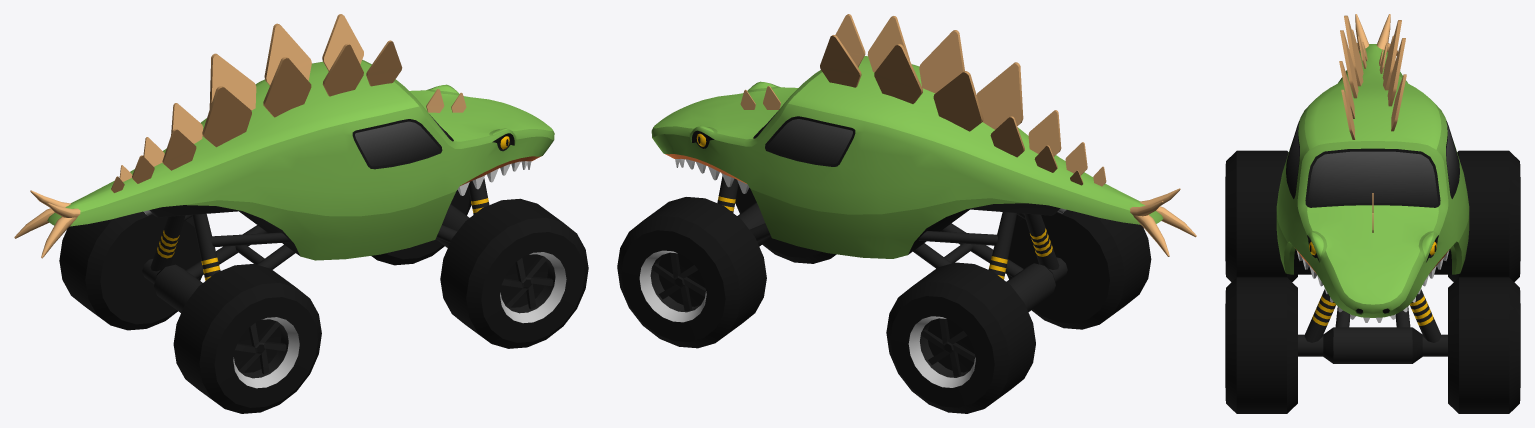
File: Car_007.glb
3 views of the same model, side by side, from view 1: azimuth 30°, elevation 25°; view 2: azimuth 150°, elevation 25°; view 3: azimuth 270°, elevation 25° (orthographic). The views are drawn at different scales.
Visible parts, largest first — view 1: Car_007, wheel_3_Car_007_Wheel_2R, wheel_1_Car_007_Wheel_1R, wheel_2_Car_007_Wheel_2L, wheel_0_Car_007_Wheel_1L; view 2: Car_007, wheel_2_Car_007_Wheel_2L, wheel_0_Car_007_Wheel_1L, wheel_3_Car_007_Wheel_2R, wheel_1_Car_007_Wheel_1R; view 3: Car_007, wheel_0_Car_007_Wheel_1L, wheel_1_Car_007_Wheel_1R, wheel_3_Car_007_Wheel_2R, wheel_2_Car_007_Wheel_2L.
Boxes of the visible parts, <box> form: Car_007: <box>14,14,554,312</box>; wheel_3_Car_007_Wheel_2R: <box>173,264,321,413</box>; wheel_1_Car_007_Wheel_1R: <box>440,198,588,348</box>; wheel_2_Car_007_Wheel_2L: <box>59,211,202,330</box>; wheel_0_Car_007_Wheel_1L: <box>371,186,471,265</box>; Car_007: <box>651,14,1196,311</box>; wheel_2_Car_007_Wheel_2L: <box>886,262,1035,413</box>; wheel_0_Car_007_Wheel_1L: <box>617,197,766,348</box>; wheel_3_Car_007_Wheel_2R: <box>1007,210,1151,329</box>; wheel_1_Car_007_Wheel_1R: <box>735,184,836,263</box>; Car_007: <box>1276,14,1469,363</box>; wheel_0_Car_007_Wheel_1L: <box>1448,277,1520,413</box>; wheel_1_Car_007_Wheel_1R: <box>1225,277,1297,413</box>; wheel_3_Car_007_Wheel_2R: <box>1225,150,1297,281</box>; wheel_2_Car_007_Wheel_2L: <box>1448,150,1520,281</box>.
Bounding box in the file's own units: 5.87 × 3.23 × 2.97.
1 material, 1 textured.
